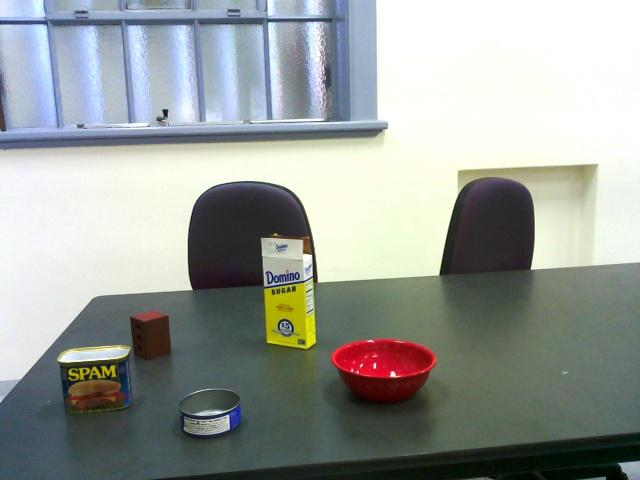004_sugar_box: (259, 231, 318, 349)
007_tuna_fish_can: (177, 388, 244, 440)
010_potted_meat_can: (56, 345, 134, 419)
024_bowl: (329, 338, 439, 407)
061_foam_brick: (128, 310, 174, 363)
